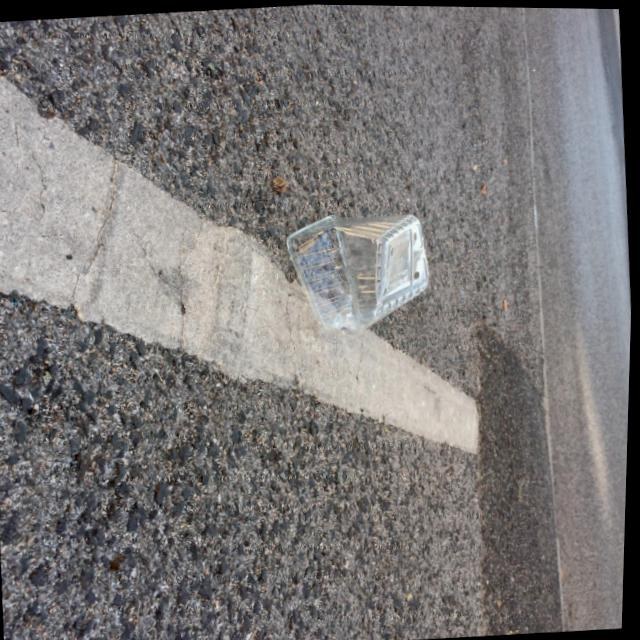Plastic: (266, 198, 446, 353)
